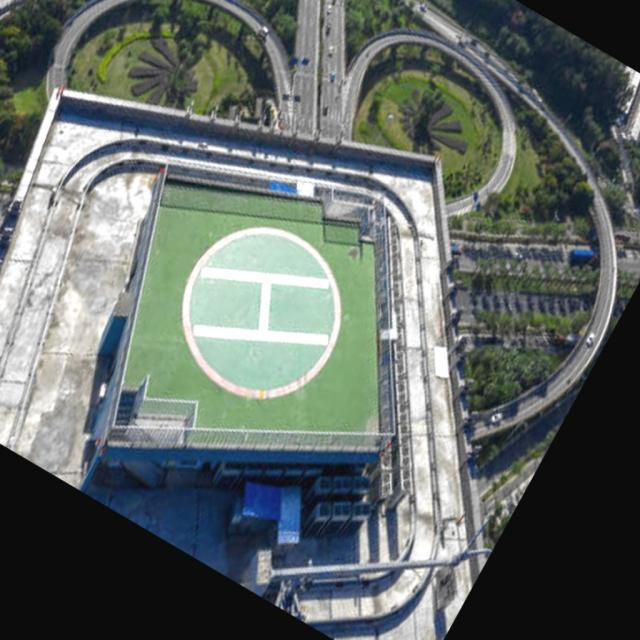helipad: (170, 220, 346, 402)
